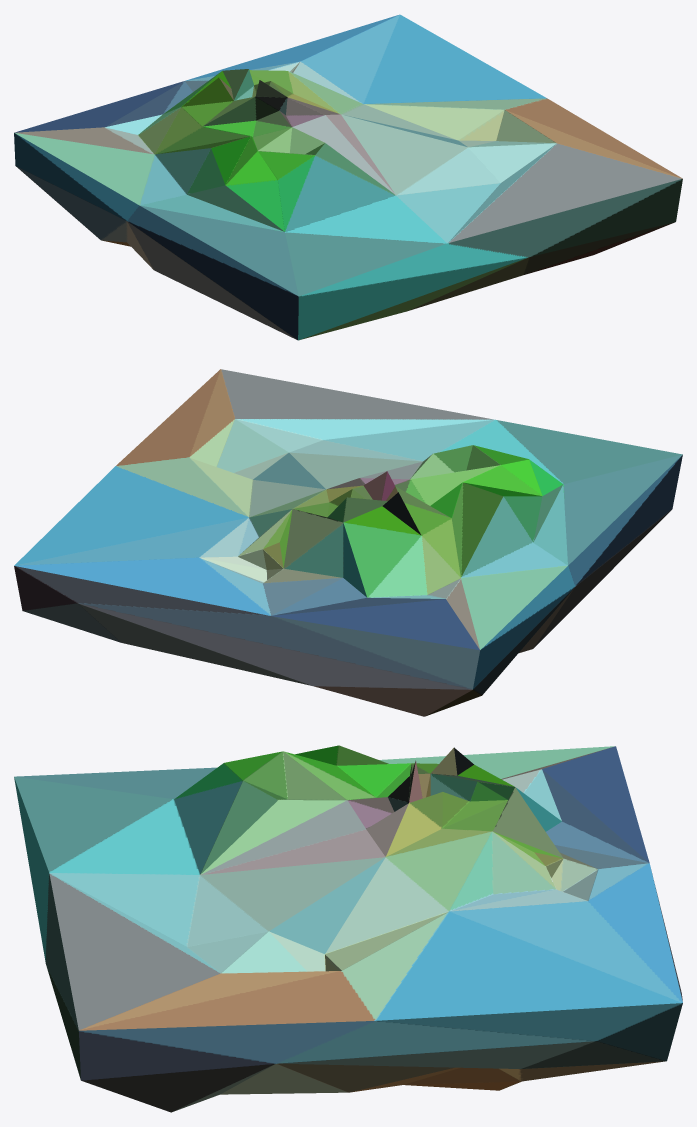
The model's file is island.fbx.
3 renders of one model, top to bottom at view 1: azimuth 30°, elevation 25°; view 2: azimuth 150°, elevation 25°; view 3: azimuth 270°, elevation 25°, orthographic. The views are drawn at different scales.
Visible parts, largest first — view 1: Mesh_0; view 2: Mesh_0; view 3: Mesh_0.
Part boxes in pixels (x1,y1,x2,y2): Mesh_0: [14, 14, 682, 340]; Mesh_0: [14, 369, 682, 716]; Mesh_0: [14, 745, 682, 1112].
Bounding box in the file's own units: 119 × 54.14 × 119.
Materials: 1 (1 with a texture image).
